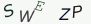E: (34, 1, 46, 12)
P: (72, 4, 83, 19)
S: (3, 2, 14, 19)
W: (17, 8, 36, 24)
Z: (57, 7, 72, 23)
